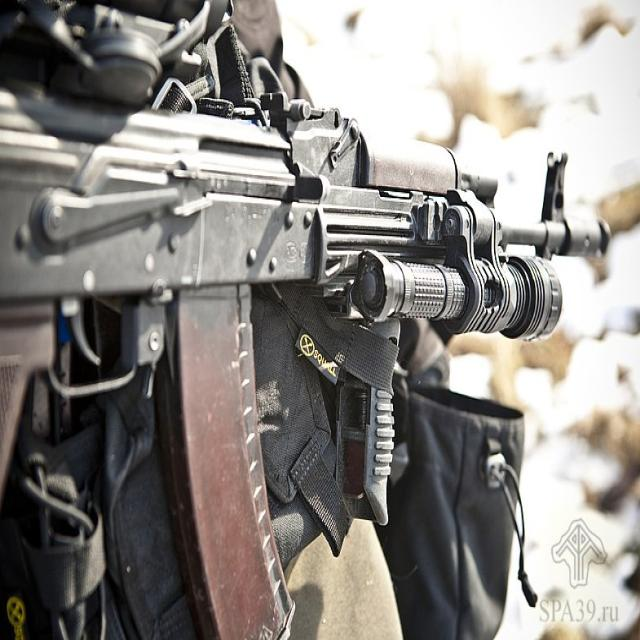firearm: (0, 87, 609, 640)
